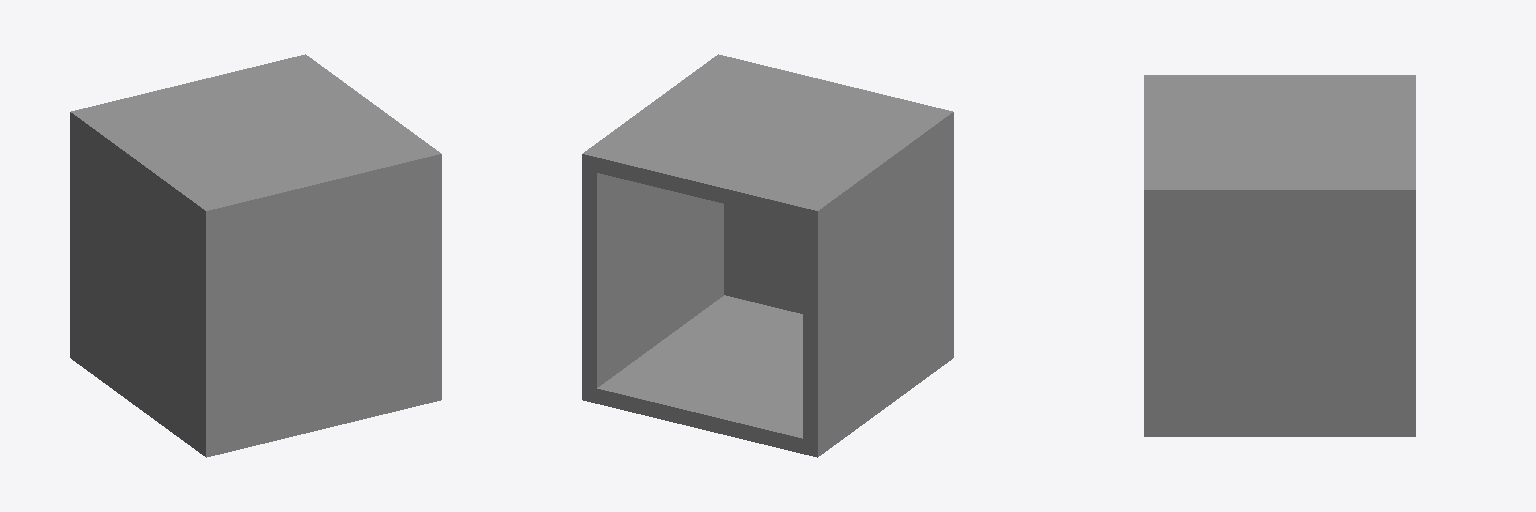
File: locker.obj
The picture shows the model from 3 angles: view 1: azimuth 30°, elevation 25°; view 2: azimuth 150°, elevation 25°; view 3: azimuth 270°, elevation 25°; orthographic projection.
Visible parts, largest first — view 1: locker; view 2: locker; view 3: locker.
Boxes of the visible parts, x1=… form: locker: x1=70, y1=54, x2=441, y2=457; locker: x1=582, y1=54, x2=953, y2=457; locker: x1=1144, y1=75, x2=1415, y2=436.
Size of the model in its own units: 1 by 1 by 1.